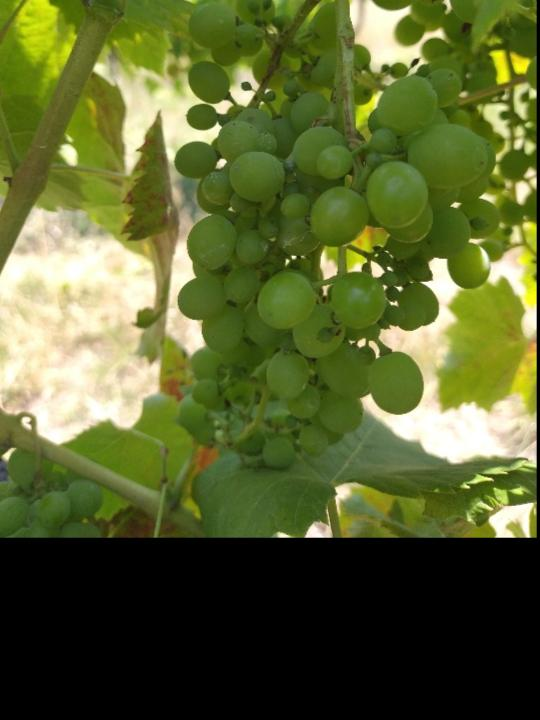grape: (161, 0, 507, 472)
